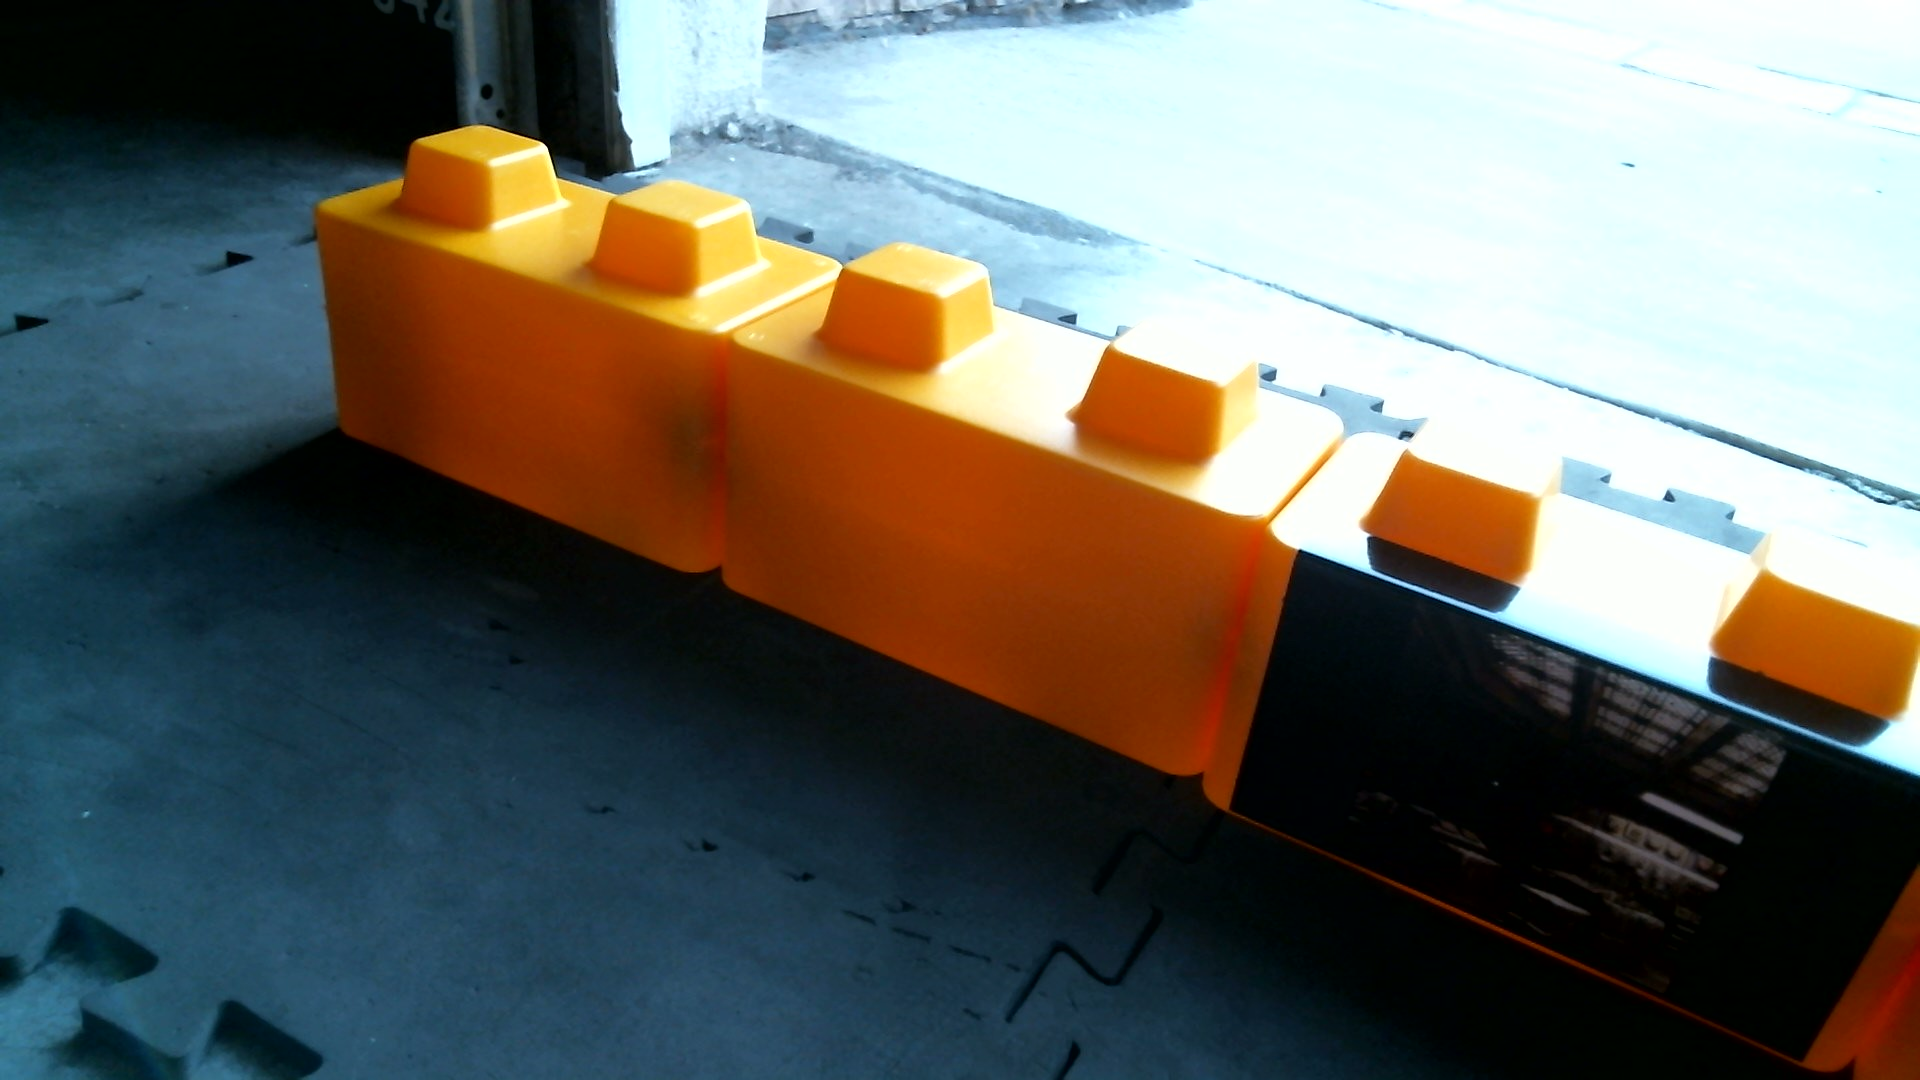right: (285, 103, 1917, 1077)
